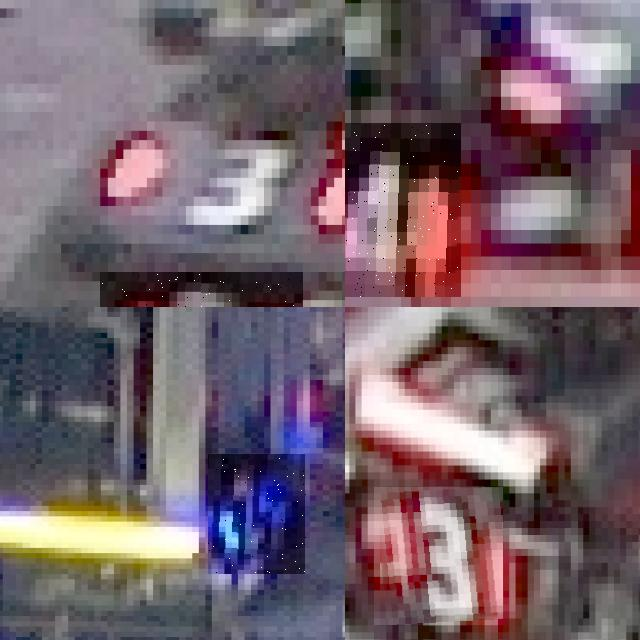B2: (208, 454, 306, 574)
R3: (374, 487, 503, 625), (100, 271, 303, 307)
R4: (345, 123, 461, 296)
